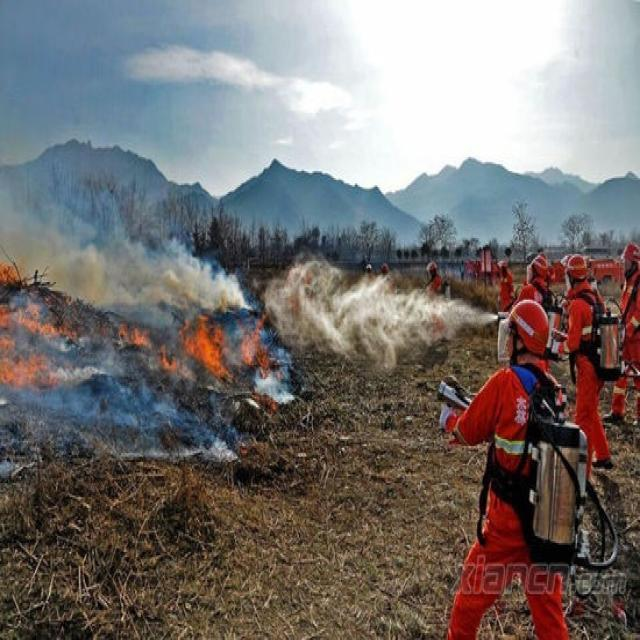Fire: (120, 308, 284, 414), (1, 262, 79, 390)
Smoke: (1, 174, 296, 463)
